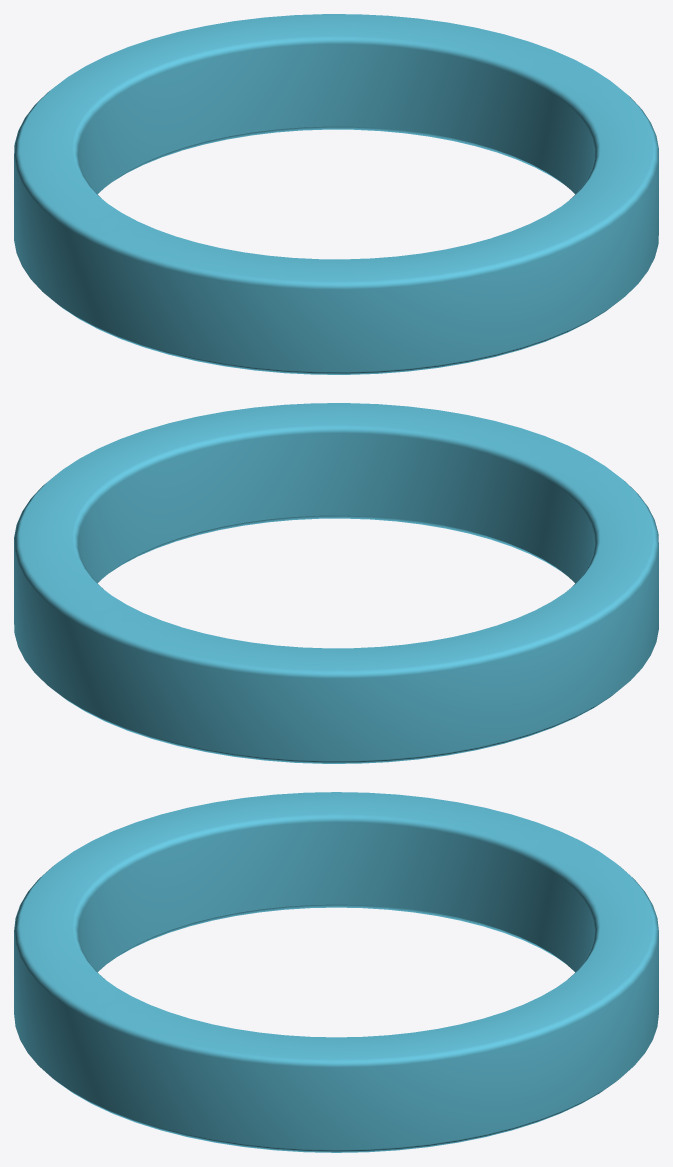
The picture shows the model from 3 angles, top to bottom: view 1: azimuth 30°, elevation 25°; view 2: azimuth 150°, elevation 25°; view 3: azimuth 270°, elevation 25°; orthographic projection.
Visible parts, largest first — view 1: seal_body; view 2: seal_body; view 3: seal_body.
Part boxes in pixels (x1,y1,x2,y2): seal_body: [14, 14, 658, 374]; seal_body: [14, 403, 658, 763]; seal_body: [14, 792, 658, 1152].
Bounding box in the file's own units: 0.025 × 0.004 × 0.025.
